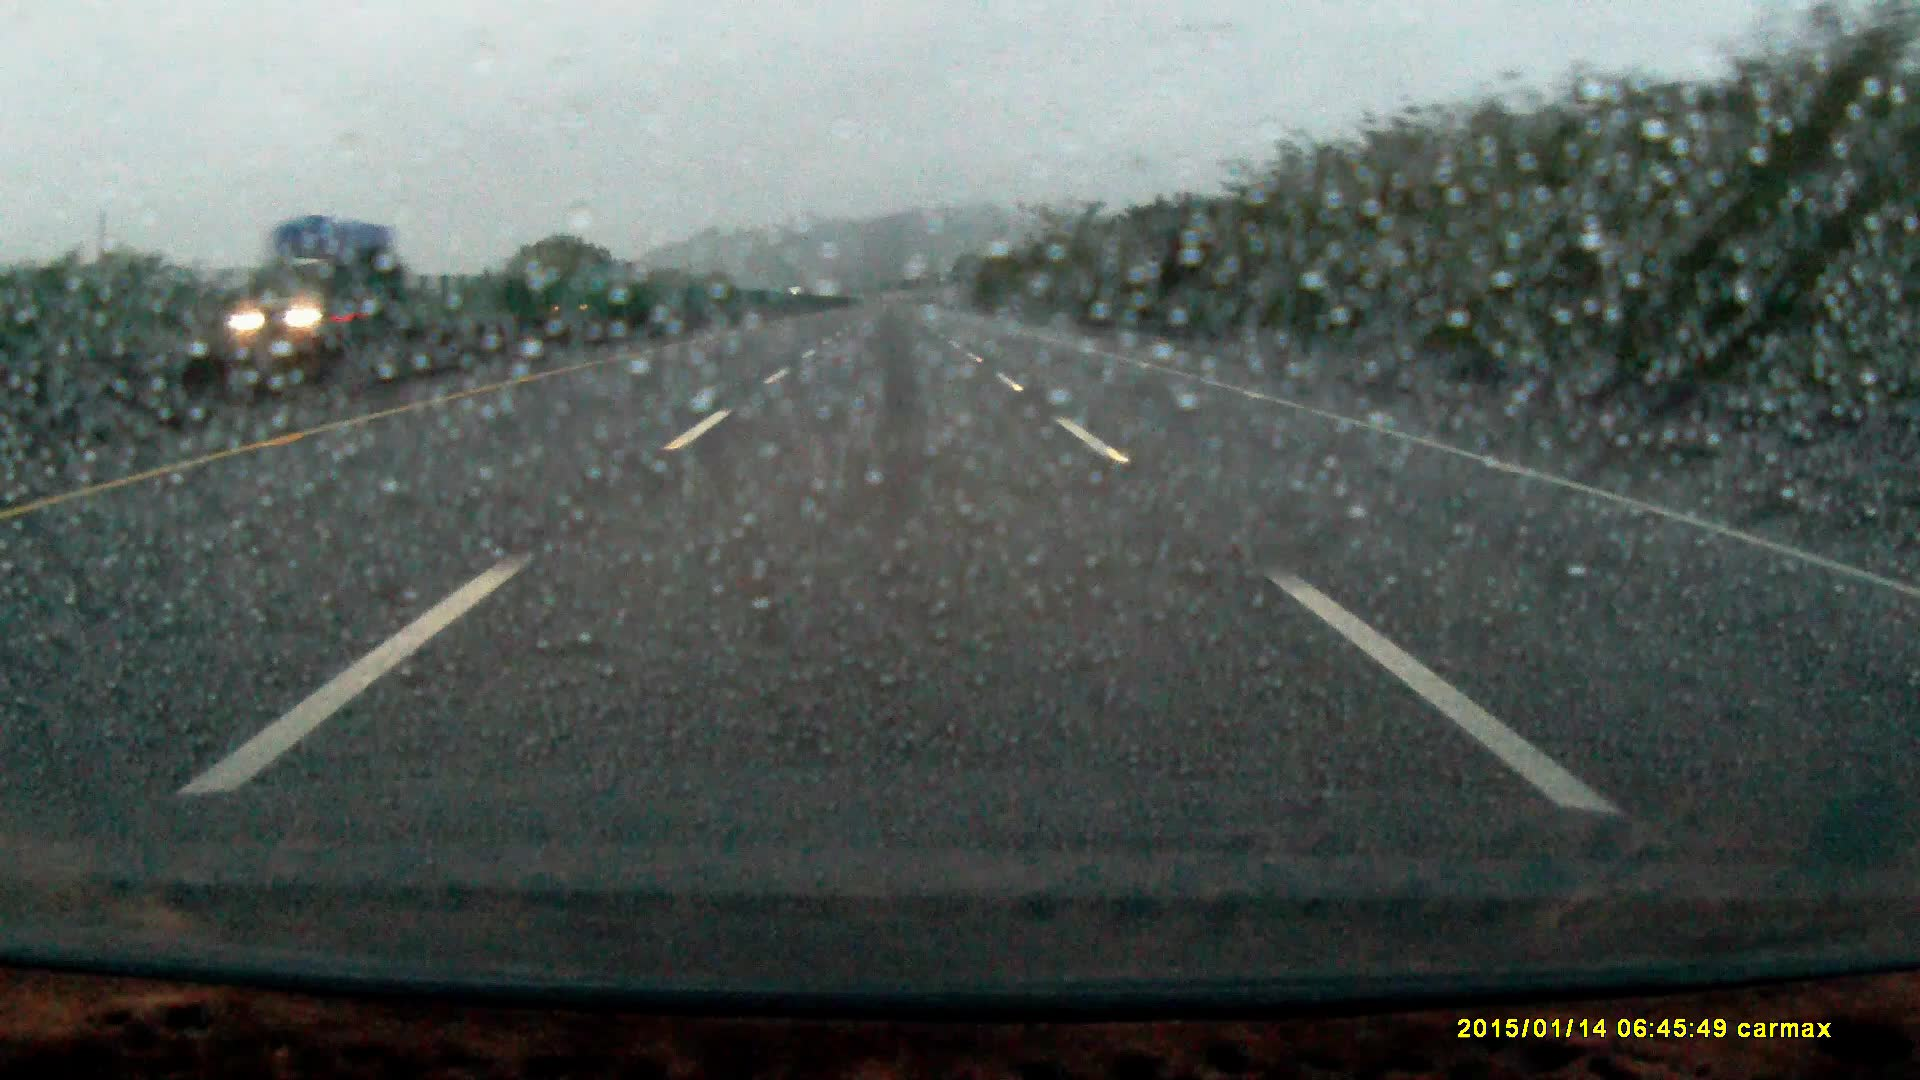vehicle: (233, 219, 380, 347), (549, 265, 632, 328)
